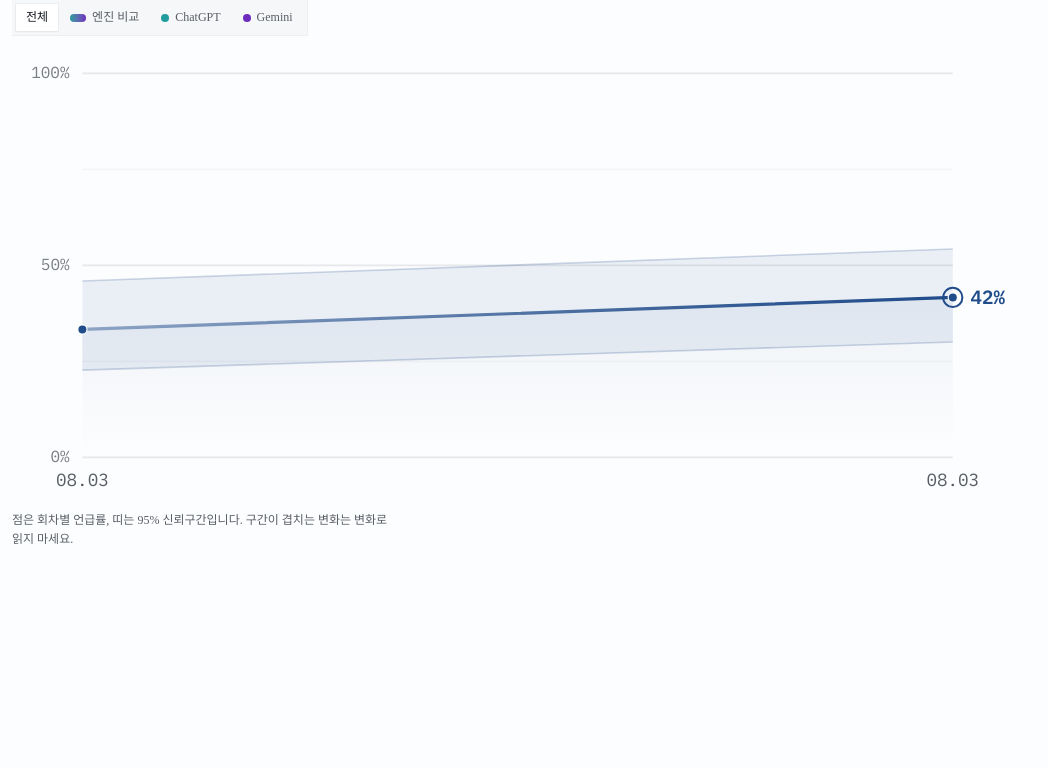
Test: TrendChart — 엔진 비교 › 비교 모드는 밴드를 그리지 않는다 — 겹친 반투명은 없는 값을 만든다
The image size is (1048, 768).
Expected: the element with test id "trend-band" is shown, left=82, top=249, right=953, bottom=370
Click the button "엔진 비교": click(105, 18) left=60, top=4, right=149, bottom=31
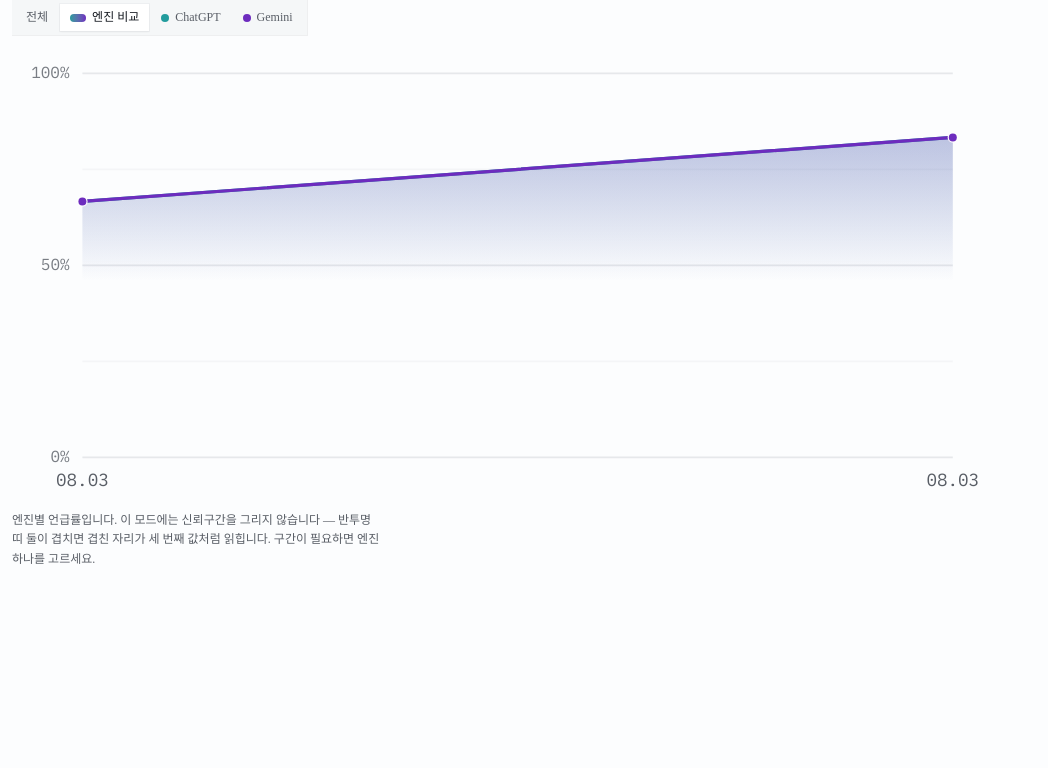
Expected: the text "신뢰구간을 그리지 않습니다" is shown, left=12, top=513, right=379, bottom=566
